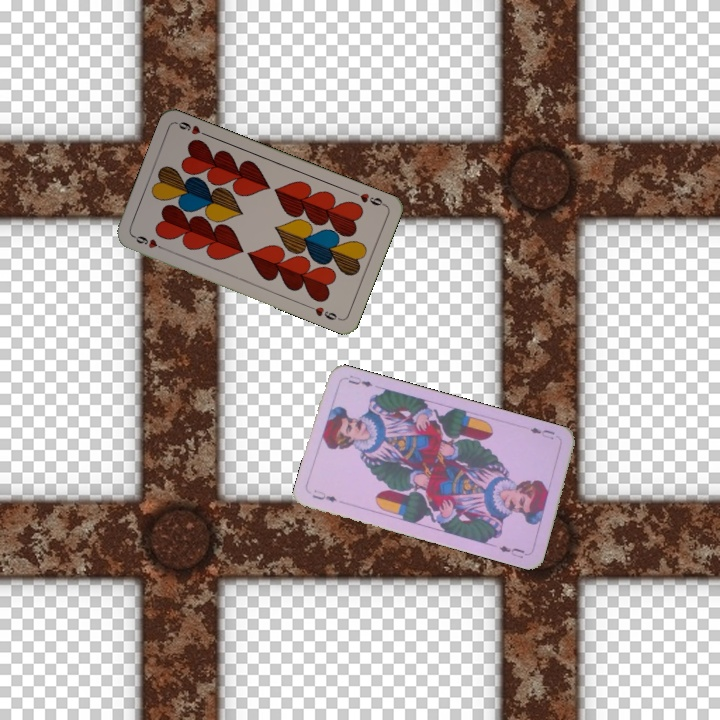EU: (308, 485, 340, 505), (526, 423, 557, 442)
H9: (129, 231, 168, 253), (349, 188, 388, 208)
